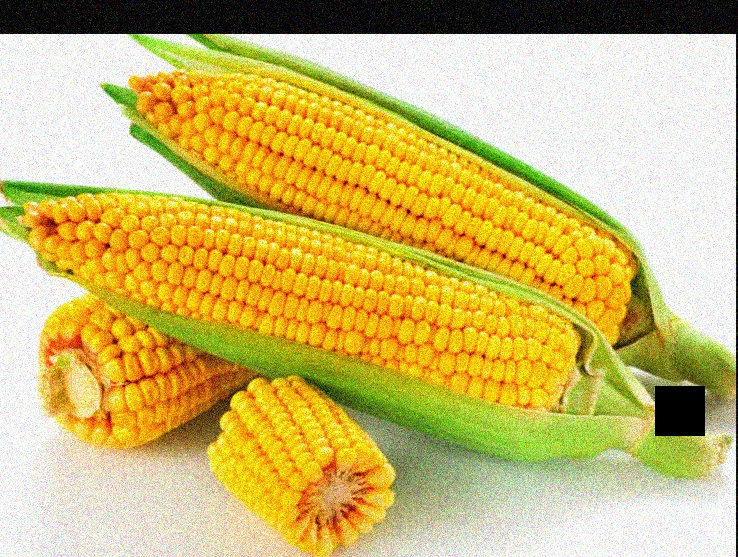corn: (123, 48, 736, 376), (8, 176, 656, 439)
